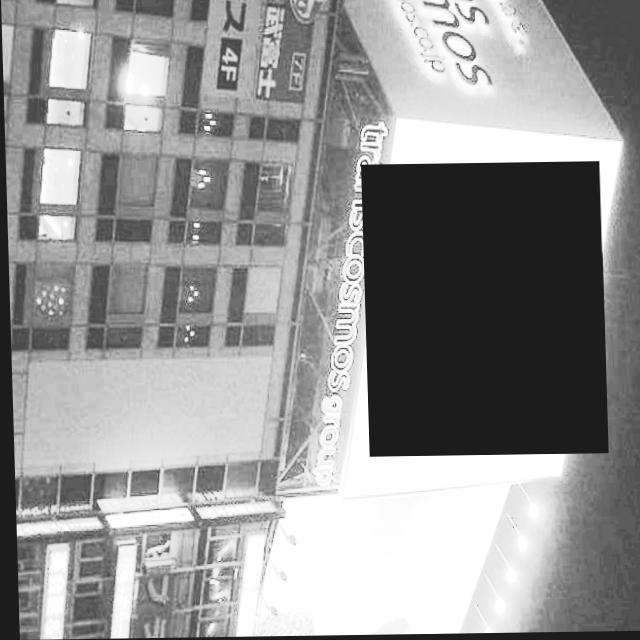qr_code: (359, 163, 605, 458)
